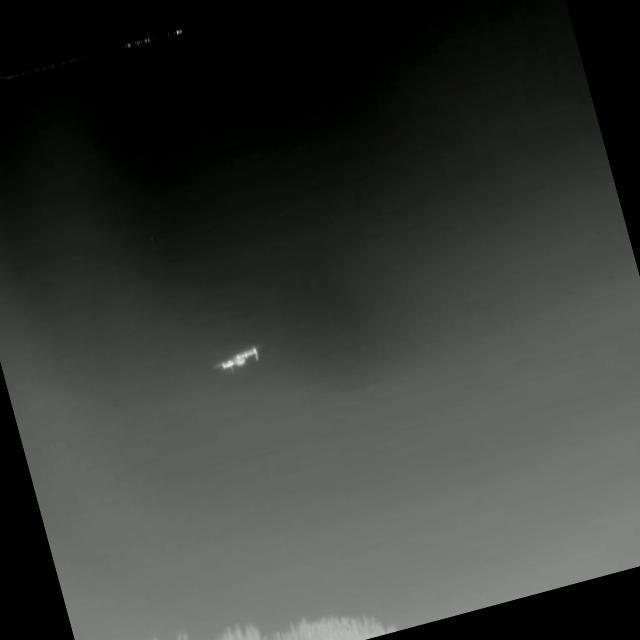DRONE: (202, 336, 270, 383)
